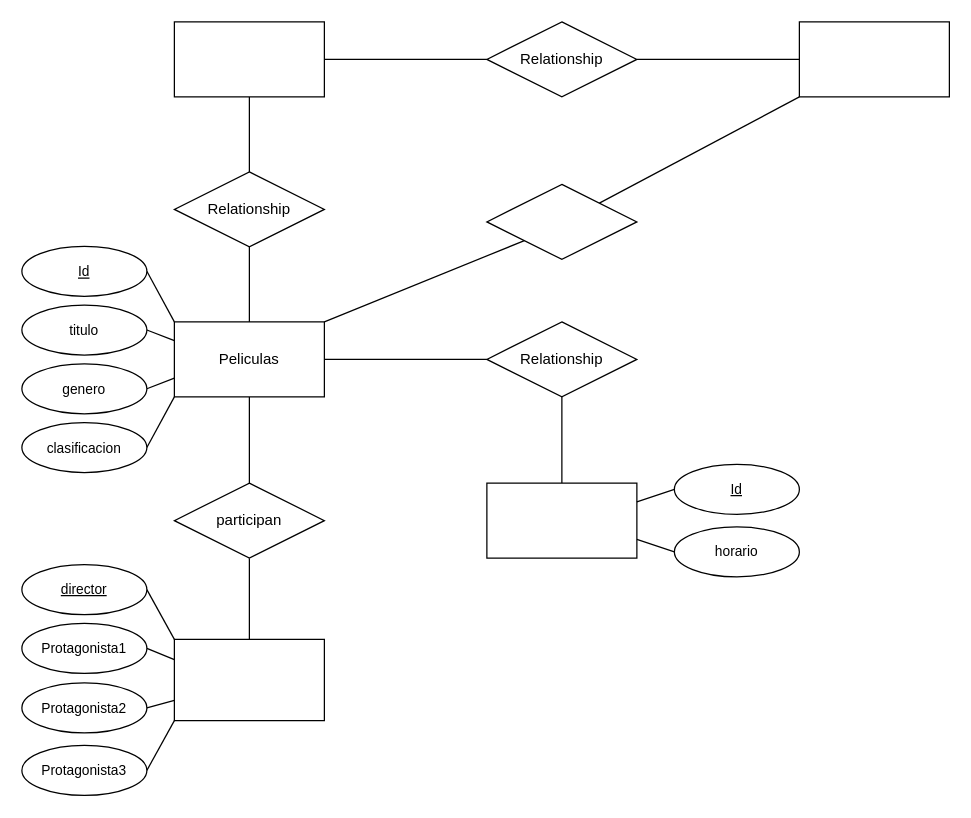
This 971x818 diagram has some shape labels left out. Here are the shapes that lost their labels. From the top down, the box of each, then its label:
(173, 21, 324, 97): Salas
(798, 21, 949, 97): Cines
(486, 183, 637, 259): proyectan
(486, 482, 637, 558): Pases
(173, 638, 324, 721): Reparto
